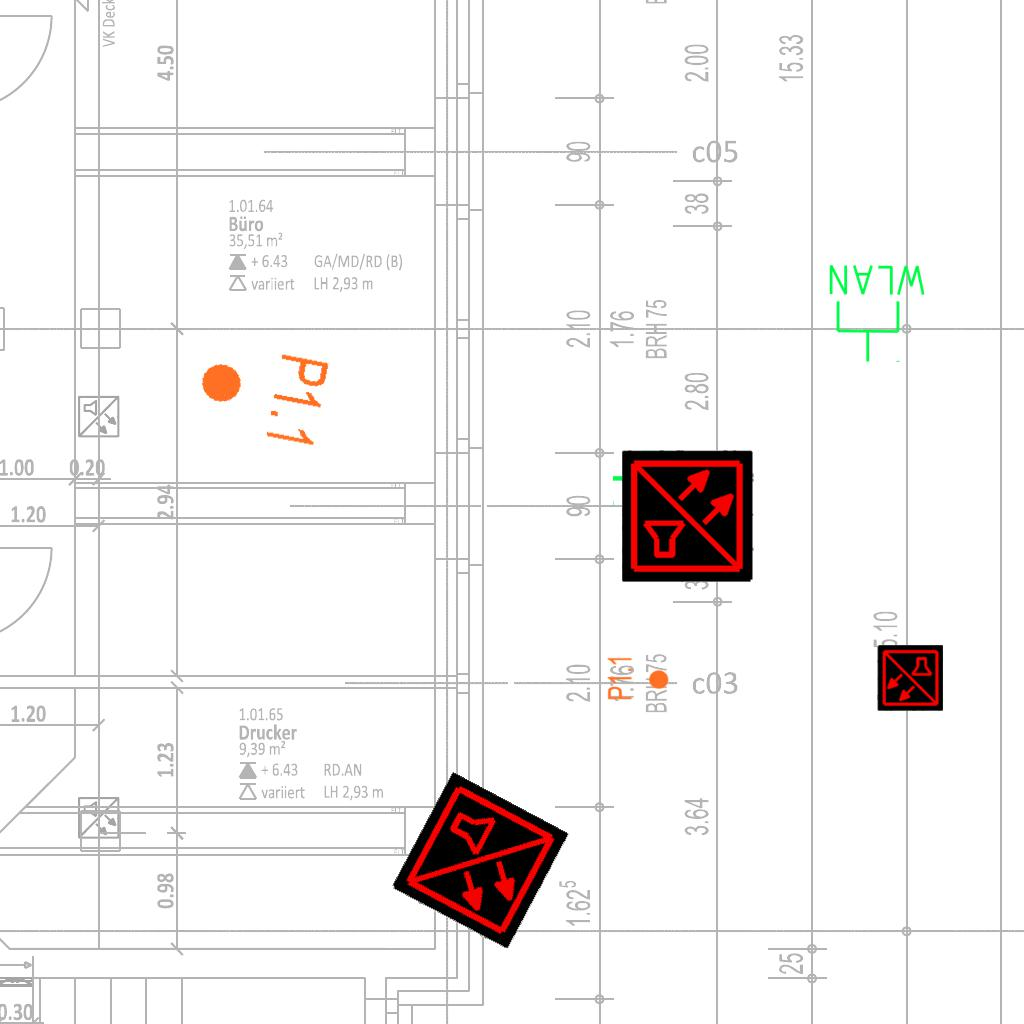Datenanschluss_einfach: (610, 442, 710, 511)
Downlight_LED_Einbauleuchten_Flur: (189, 336, 334, 452), (606, 655, 670, 701)
OKW_Multisensormelder_(Kombination_optischer_Rauch-Kahlenmonoxid_Waerme-Melder): (390, 771, 570, 951), (622, 450, 754, 582), (877, 645, 943, 711)
WLAN: (825, 261, 930, 365)
